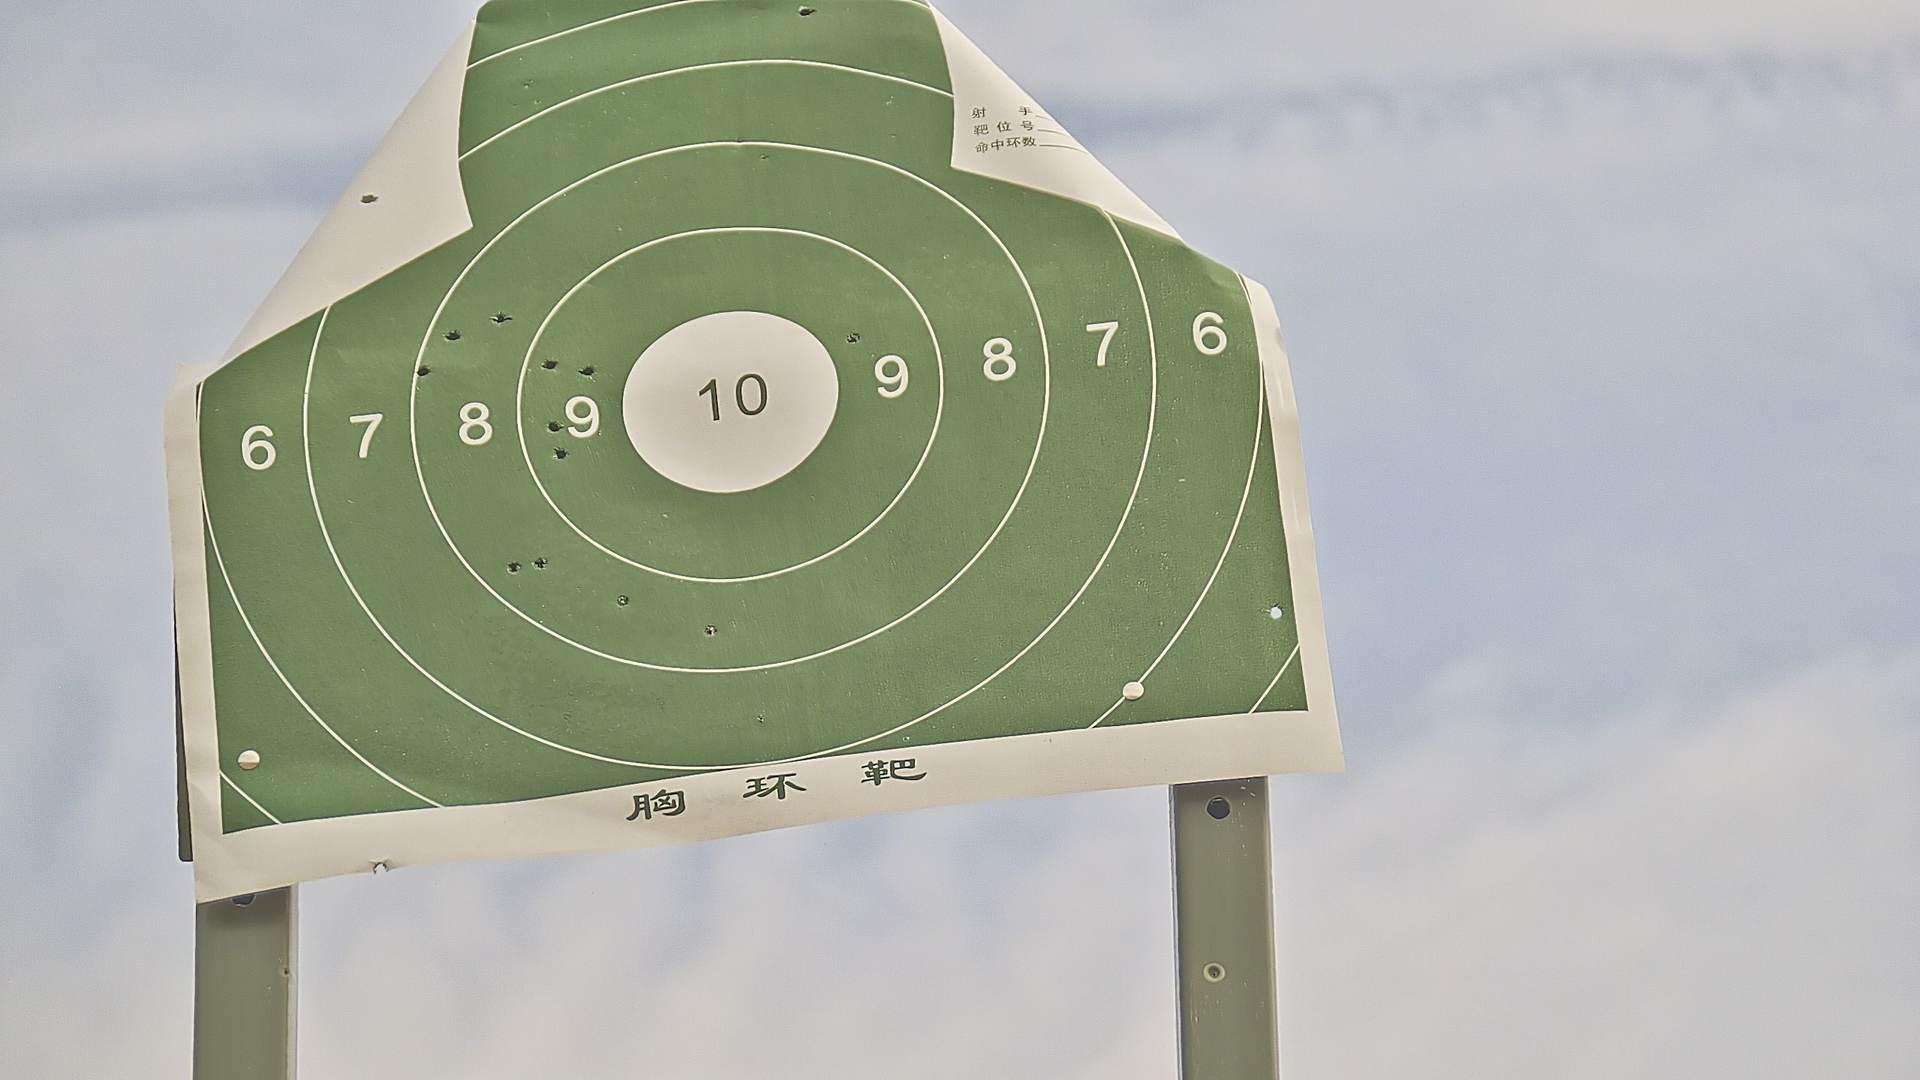hole: (1267, 603, 1283, 618), (553, 444, 568, 460), (506, 560, 522, 575), (799, 5, 815, 18), (549, 419, 564, 433), (617, 592, 630, 607), (444, 330, 460, 342), (542, 359, 558, 371), (534, 556, 547, 570), (415, 365, 429, 377), (704, 625, 719, 636), (847, 332, 858, 343), (583, 365, 593, 377), (493, 314, 506, 322)
kernel: (723, 396, 732, 401)
target: (195, 3, 1312, 837)
ten: (622, 307, 841, 495)
